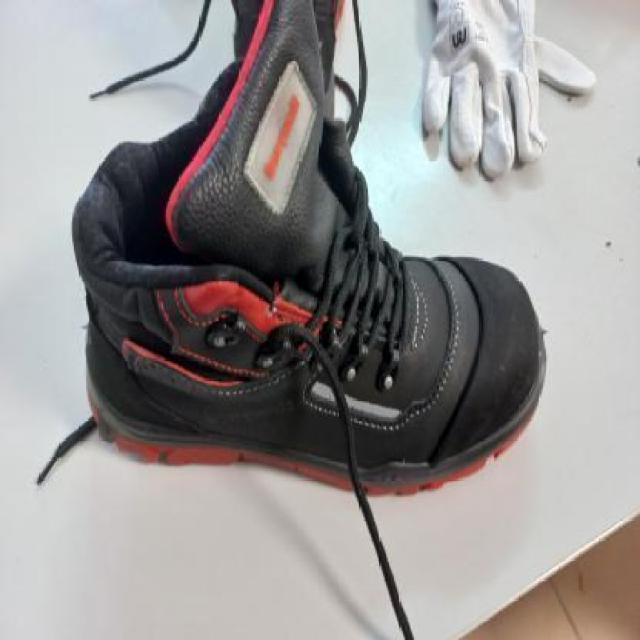gloves: (411, 0, 599, 175)
